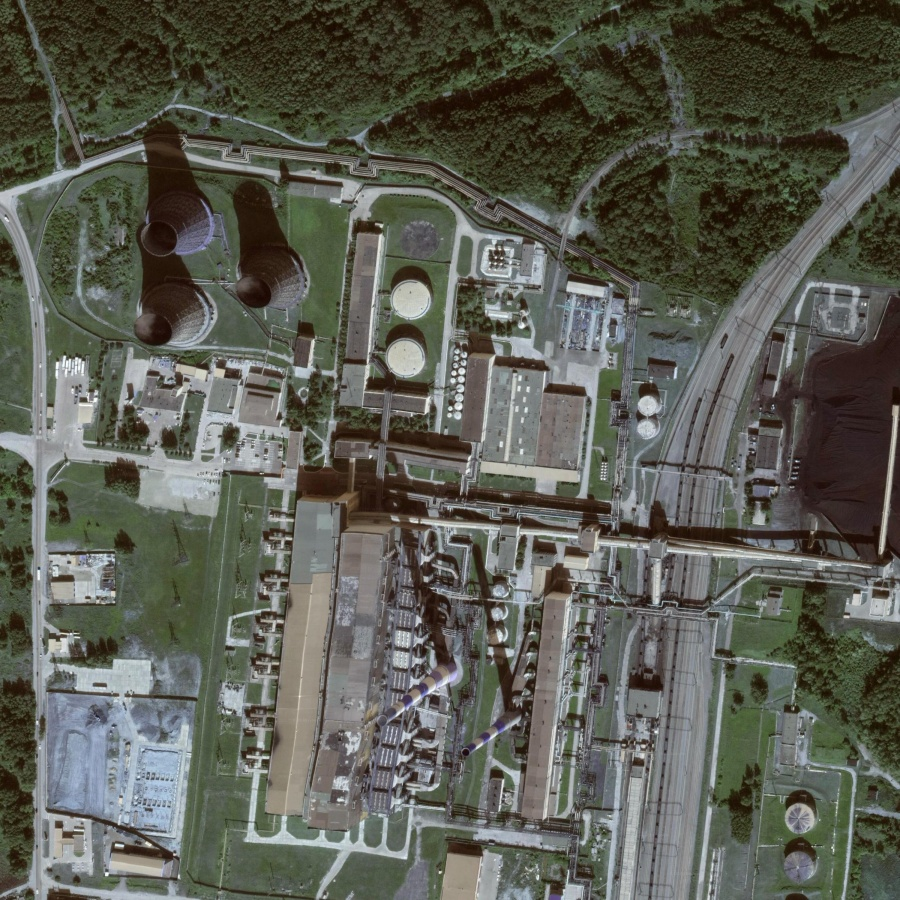PowerPlant: (121, 109, 453, 423), (346, 459, 600, 787)
